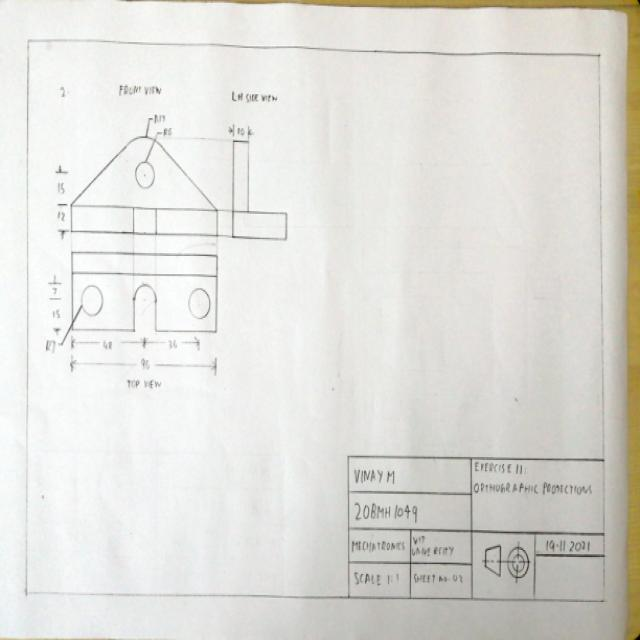Drawings: (41, 109, 295, 396)
